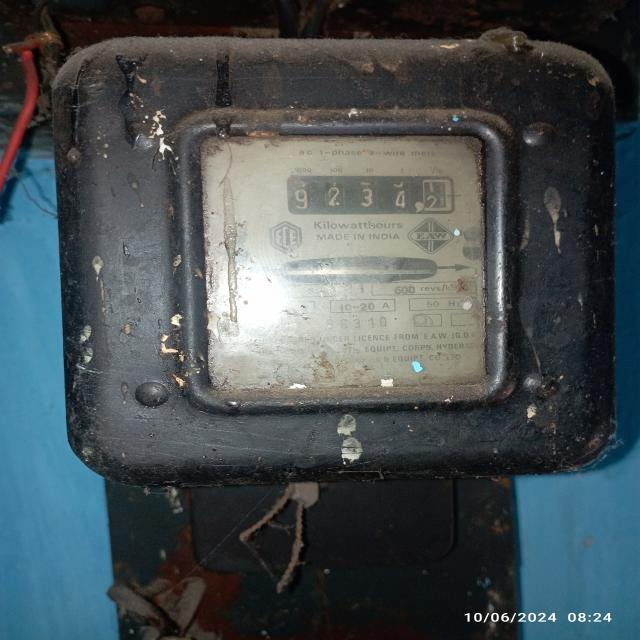display: (284, 176, 456, 214)
